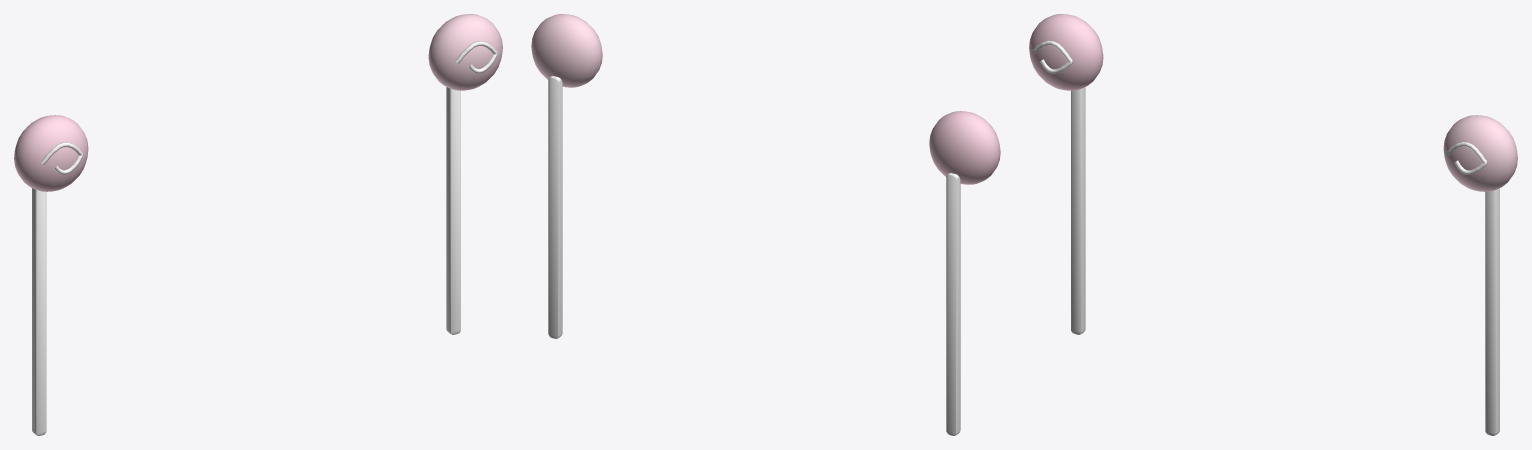
The model's file is decor_2_candy.glb.
3 views of the same model, side by side, from view 1: azimuth 30°, elevation 25°; view 2: azimuth 150°, elevation 25°; view 3: azimuth 330°, elevation 25° (orthographic). The views are drawn at different scales.
Visible parts, largest first — view 1: decor_2_candy; view 2: decor_2_candy; view 3: decor_2_candy.
Part boxes in pixels (bbox=[...]): decor_2_candy: bbox=[14, 14, 502, 435]; decor_2_candy: bbox=[531, 14, 1000, 435]; decor_2_candy: bbox=[1029, 14, 1517, 435].
Bounding box in the file's own units: 28 × 18.02 × 2.99.
